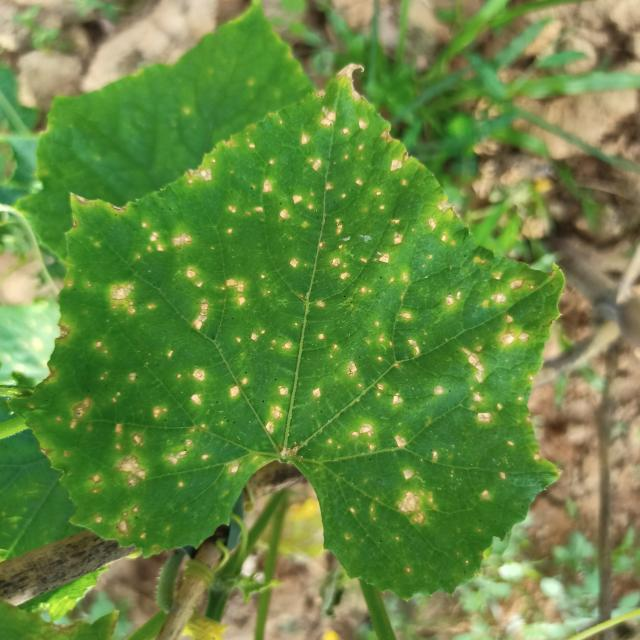disease_cucumber: (100, 87, 486, 332), (31, 250, 306, 541), (283, 277, 564, 547)
